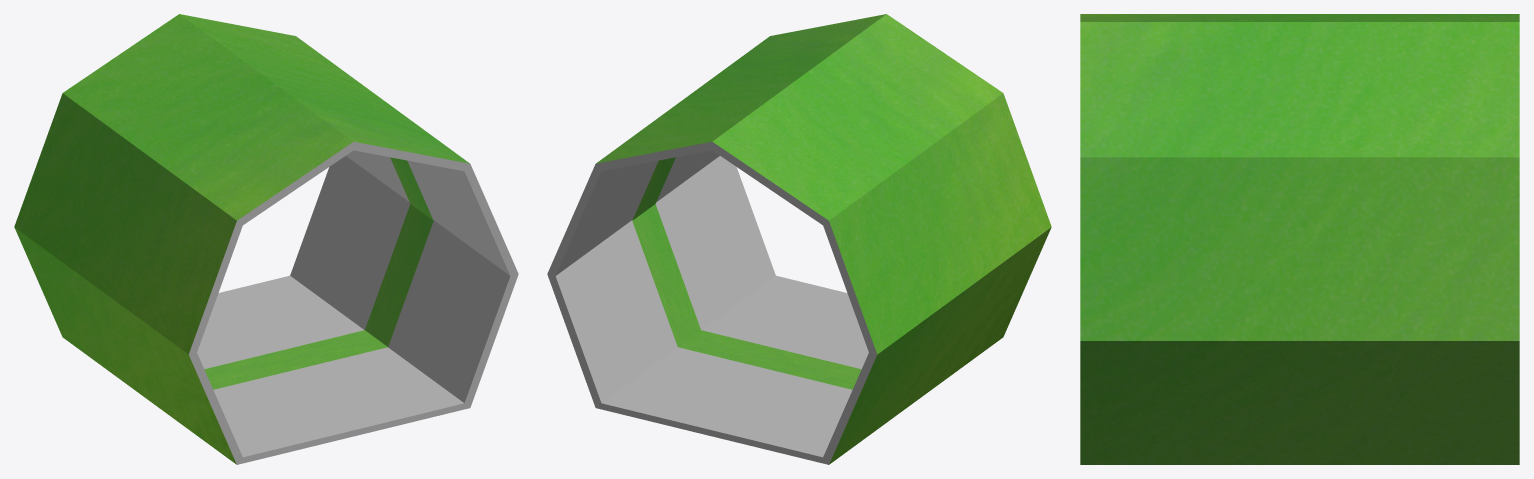
Rendered from MemeFactory_Fragment_Art.fbx.
3 renders of one model, left to right at view 1: azimuth 30°, elevation 25°; view 2: azimuth 150°, elevation 25°; view 3: azimuth 270°, elevation 25°, orthographic. The views are drawn at different scales.
Parts seen in each view (by area): view 1: MemeFactory_Fragment_Art; view 2: MemeFactory_Fragment_Art; view 3: MemeFactory_Fragment_Art.
Boxes of the visible parts, <box> form: MemeFactory_Fragment_Art: <box>14,14,518,464</box>; MemeFactory_Fragment_Art: <box>547,14,1051,464</box>; MemeFactory_Fragment_Art: <box>1080,14,1519,464</box>.
Size of the model in its own units: 394 by 336 by 360.
